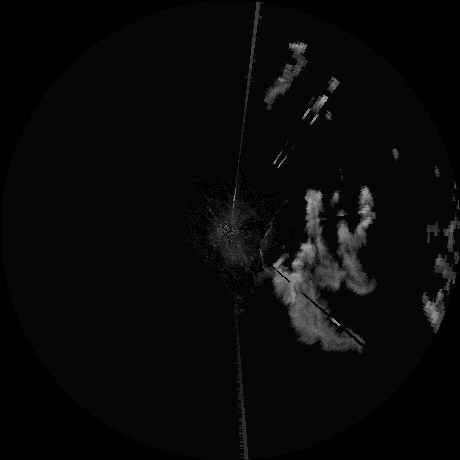frontgust: (257, 224, 274, 276)
